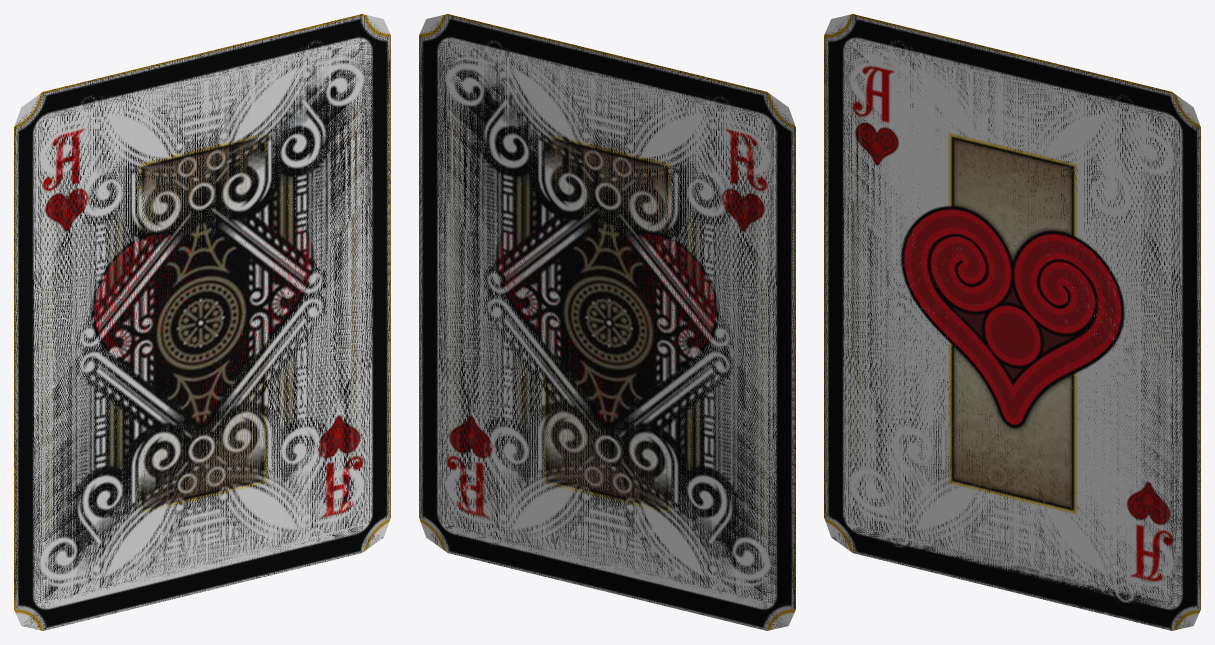
Rendered from card.fbx.
3 views of the same model, side by side, from view 1: azimuth 30°, elevation 25°; view 2: azimuth 150°, elevation 25°; view 3: azimuth 330°, elevation 25° (orthographic).
Parts seen in each view (by area): view 1: cardBack, cardFront; view 2: cardBack, cardFront; view 3: cardFront, cardBack.
Boxes of the visible parts, bbox=[...] form: cardBack: bbox=[14, 14, 390, 630]; cardFront: bbox=[14, 14, 390, 630]; cardBack: bbox=[419, 14, 795, 629]; cardFront: bbox=[419, 14, 795, 630]; cardFront: bbox=[824, 14, 1200, 630]; cardBack: bbox=[824, 14, 1200, 630].
Bounding box in the file's own units: 3.06 × 4.18 × 0.
